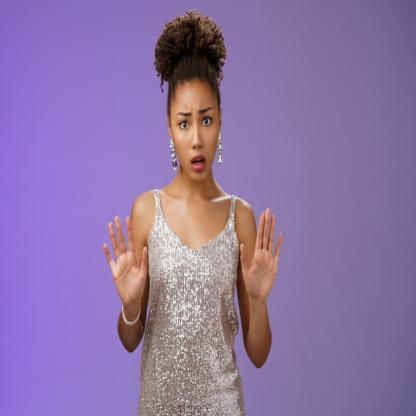stop: (101, 214, 150, 312), (236, 207, 285, 298)
